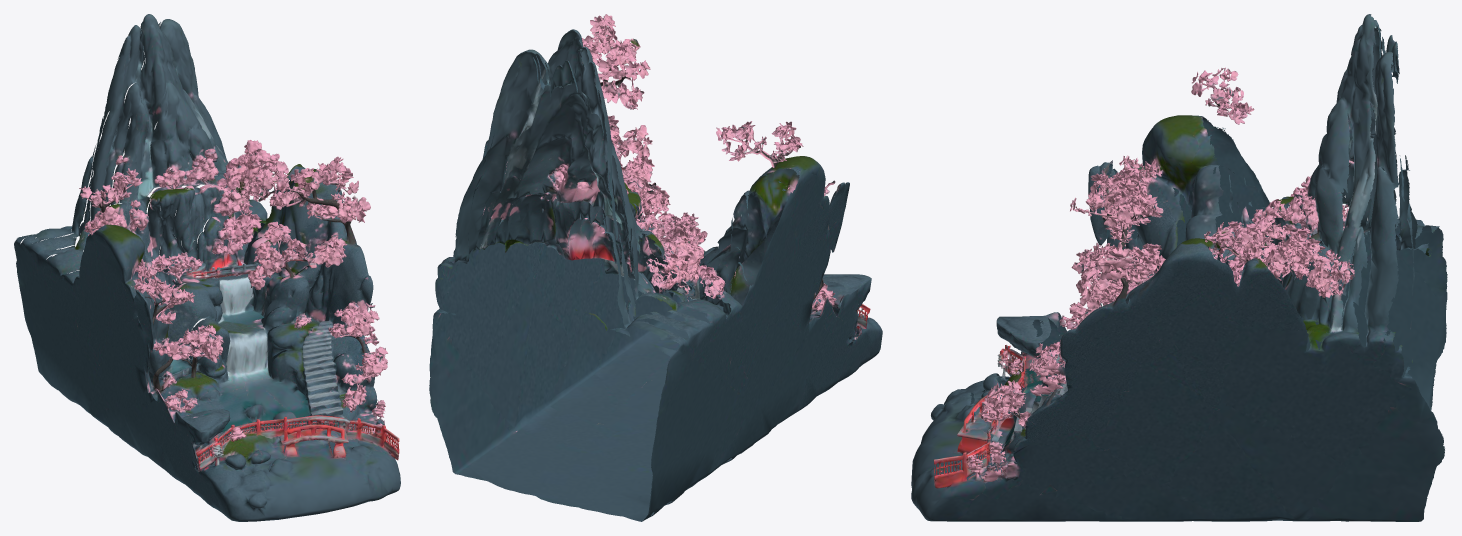
File: sakura_cliff.glb
3 renders of one model, left to right at view 1: azimuth 30°, elevation 25°; view 2: azimuth 150°, elevation 25°; view 3: azimuth 270°, elevation 25°, orthographic. The views are drawn at different scales.
Bounding box in the file's own units: 1.22 × 1.77 × 1.87.
Materials: 1 (1 with a texture image).
